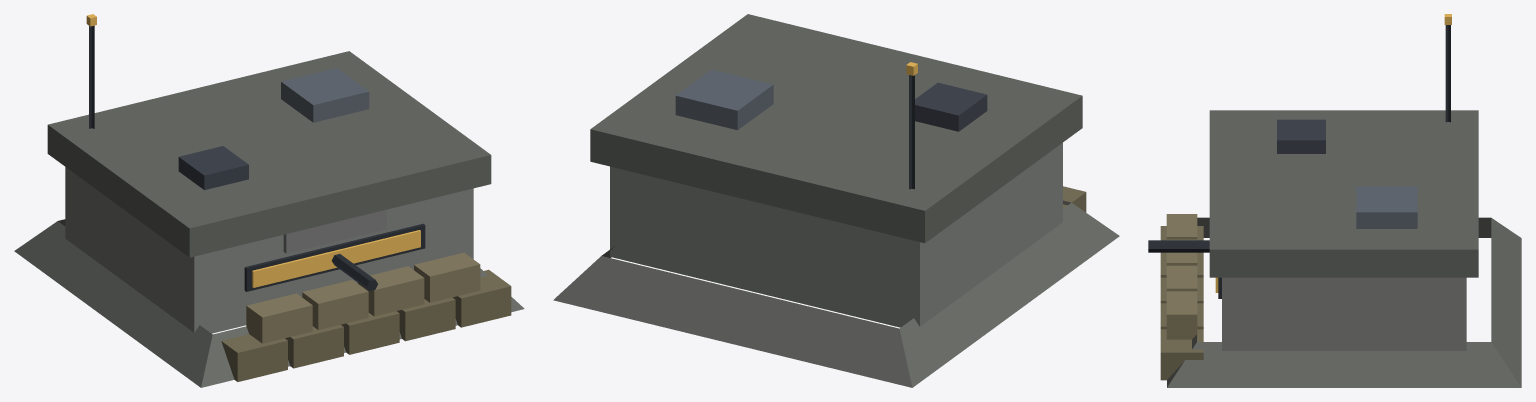
The model's file is bunker.obj.
The picture shows the model from 3 angles, left to right: view 1: azimuth 30°, elevation 25°; view 2: azimuth 150°, elevation 25°; view 3: azimuth 270°, elevation 25°; orthographic projection. The views are drawn at different scales.
Parts seen in each view (by area): view 1: bunker; view 2: bunker; view 3: bunker.
Part boxes in pixels (left/top/right/bottom): bunker: left=14, top=14, right=524, bottom=387; bunker: left=553, top=14, right=1119, bottom=387; bunker: left=1148, top=14, right=1521, bottom=387.
Size of the model in its own units: 5.8 by 4.34 by 6.1.
